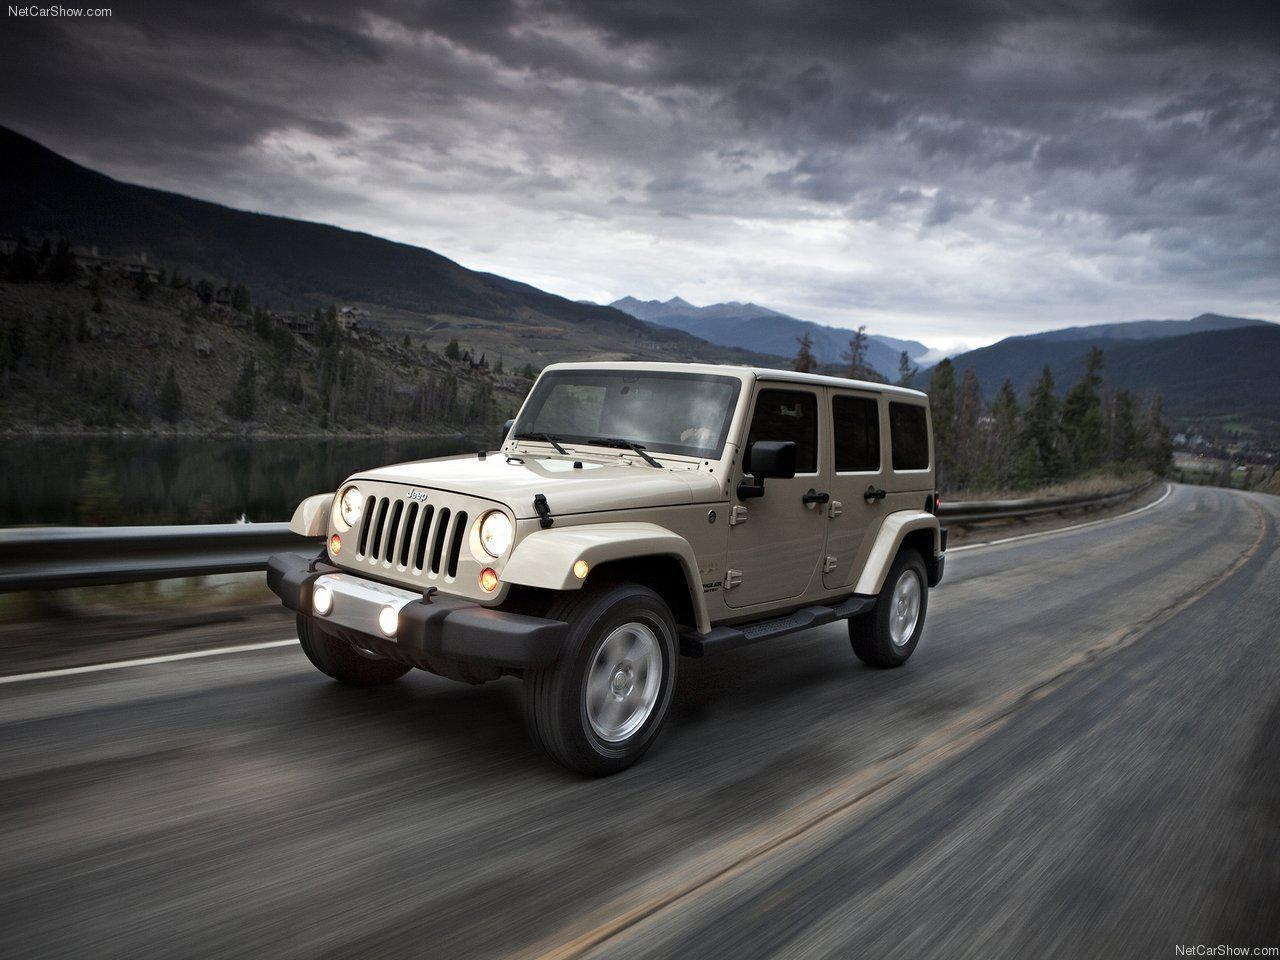Car: (254, 331, 986, 791)
